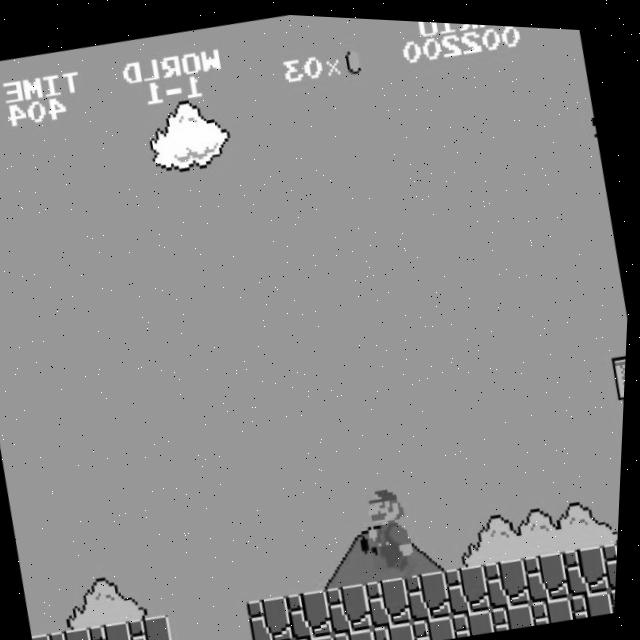0- big_mario: (363, 478, 428, 581)
15- pipe_head: (613, 346, 629, 396)
17- undestructible_block: (565, 536, 617, 592), (525, 543, 577, 599), (486, 550, 538, 606), (446, 556, 498, 612), (407, 563, 459, 619), (368, 569, 420, 625), (328, 576, 380, 632), (289, 583, 341, 639), (249, 590, 301, 640), (132, 609, 183, 640), (573, 581, 620, 614), (455, 601, 501, 634), (534, 588, 580, 620), (494, 595, 540, 627), (416, 608, 462, 640), (93, 617, 144, 640), (377, 615, 423, 640), (604, 529, 622, 584), (53, 623, 103, 640), (337, 622, 383, 640), (298, 628, 344, 640), (37, 630, 64, 640), (259, 634, 304, 640)
